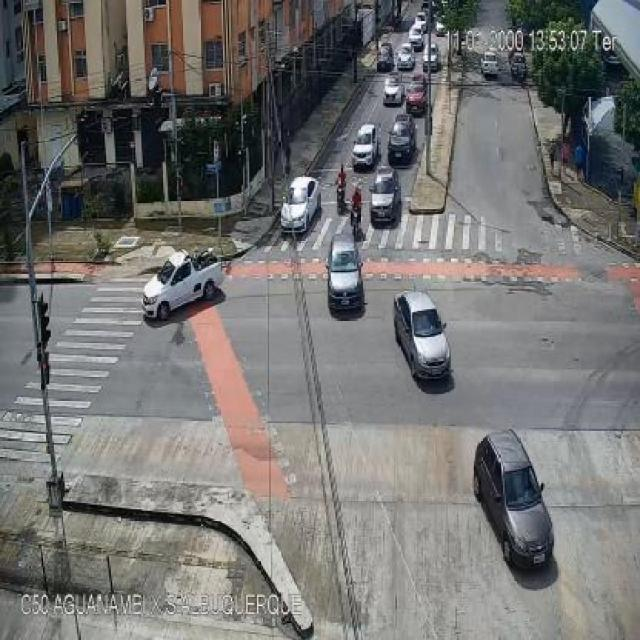car: (474, 432, 554, 568), (141, 252, 224, 319), (394, 291, 451, 379), (328, 235, 365, 311), (281, 176, 321, 233), (370, 166, 401, 228), (388, 114, 416, 165), (352, 124, 379, 171), (405, 74, 428, 116), (382, 74, 405, 106), (376, 42, 395, 72), (396, 42, 415, 71), (510, 52, 528, 82), (481, 51, 499, 78), (409, 25, 422, 51), (430, 44, 441, 72), (422, 49, 429, 71)
motorcyclist: (350, 185, 362, 241), (336, 165, 346, 215)
traffic-lights: (36, 295, 51, 389)
